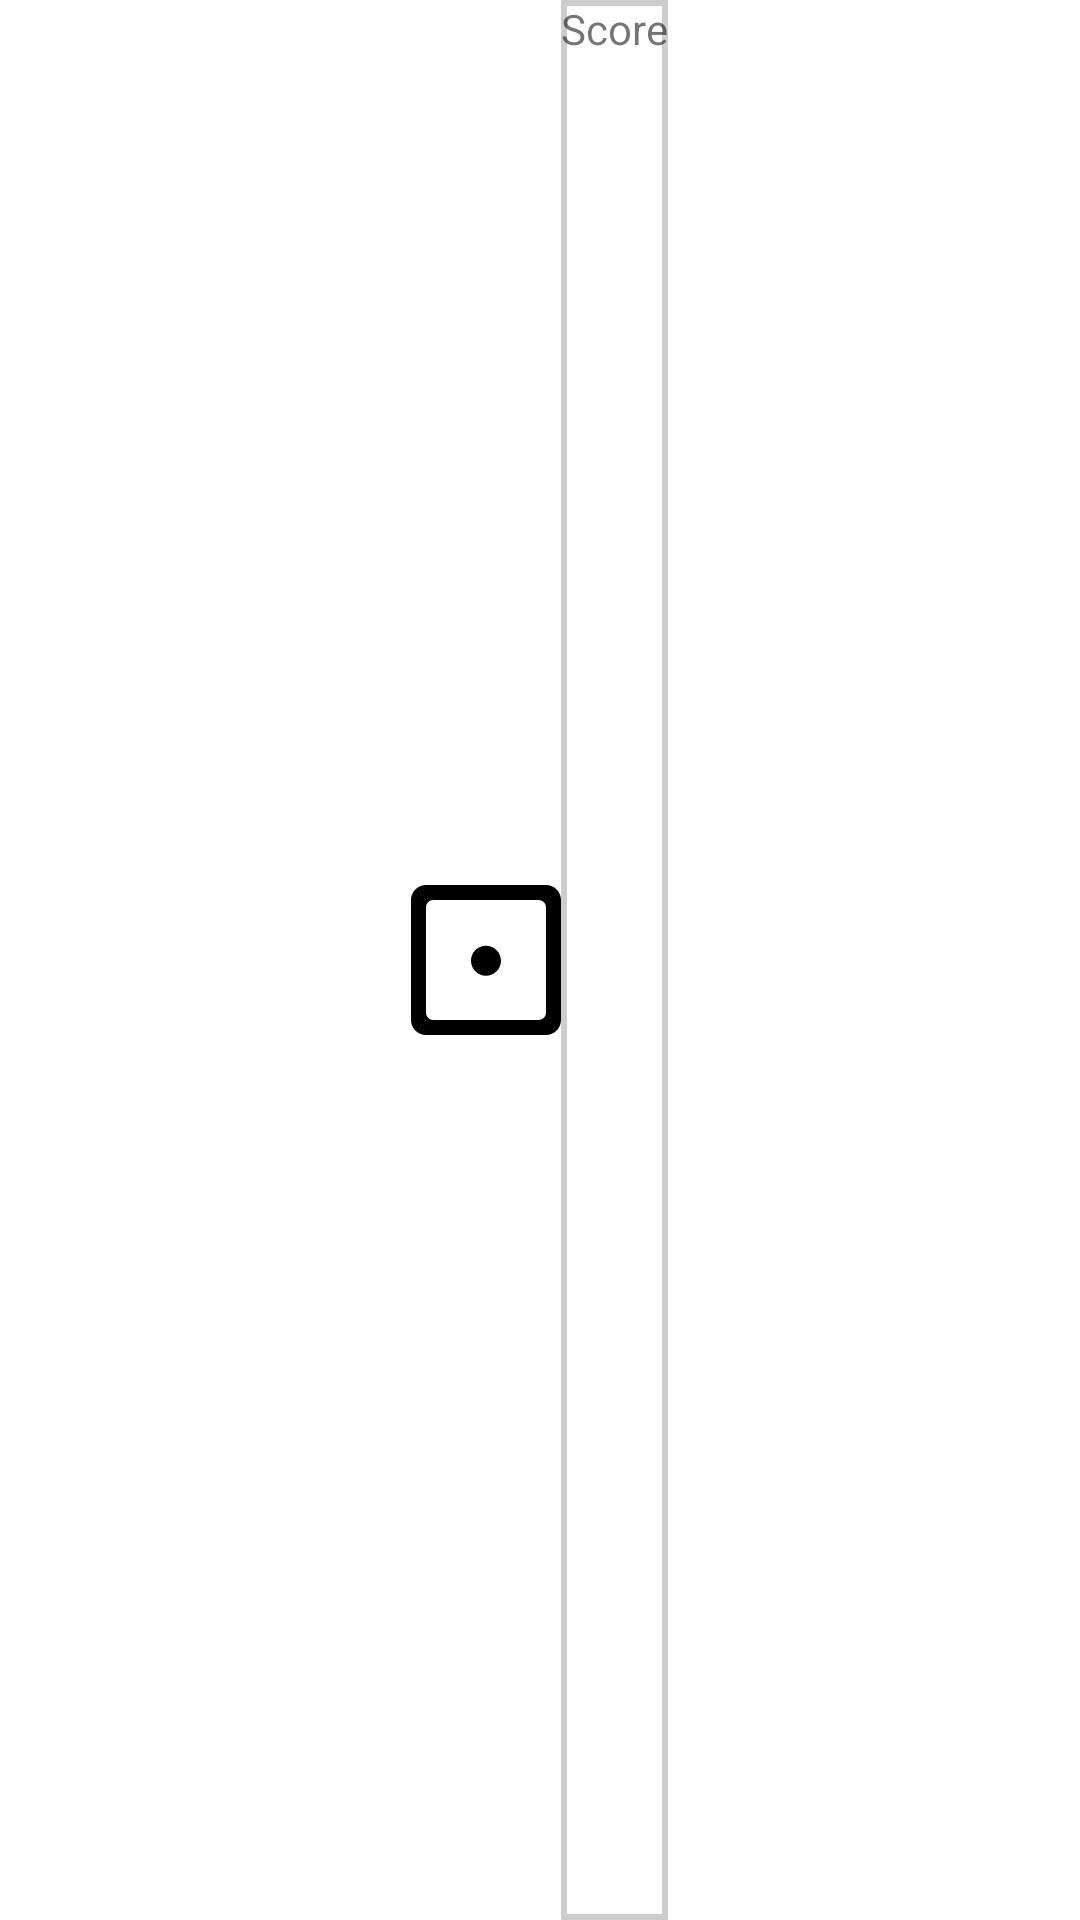

Icons on this 1080w x 1920h Android screen, each with its box as (x1, y1, x2, y2):
dice one: (411, 885, 561, 1035)
